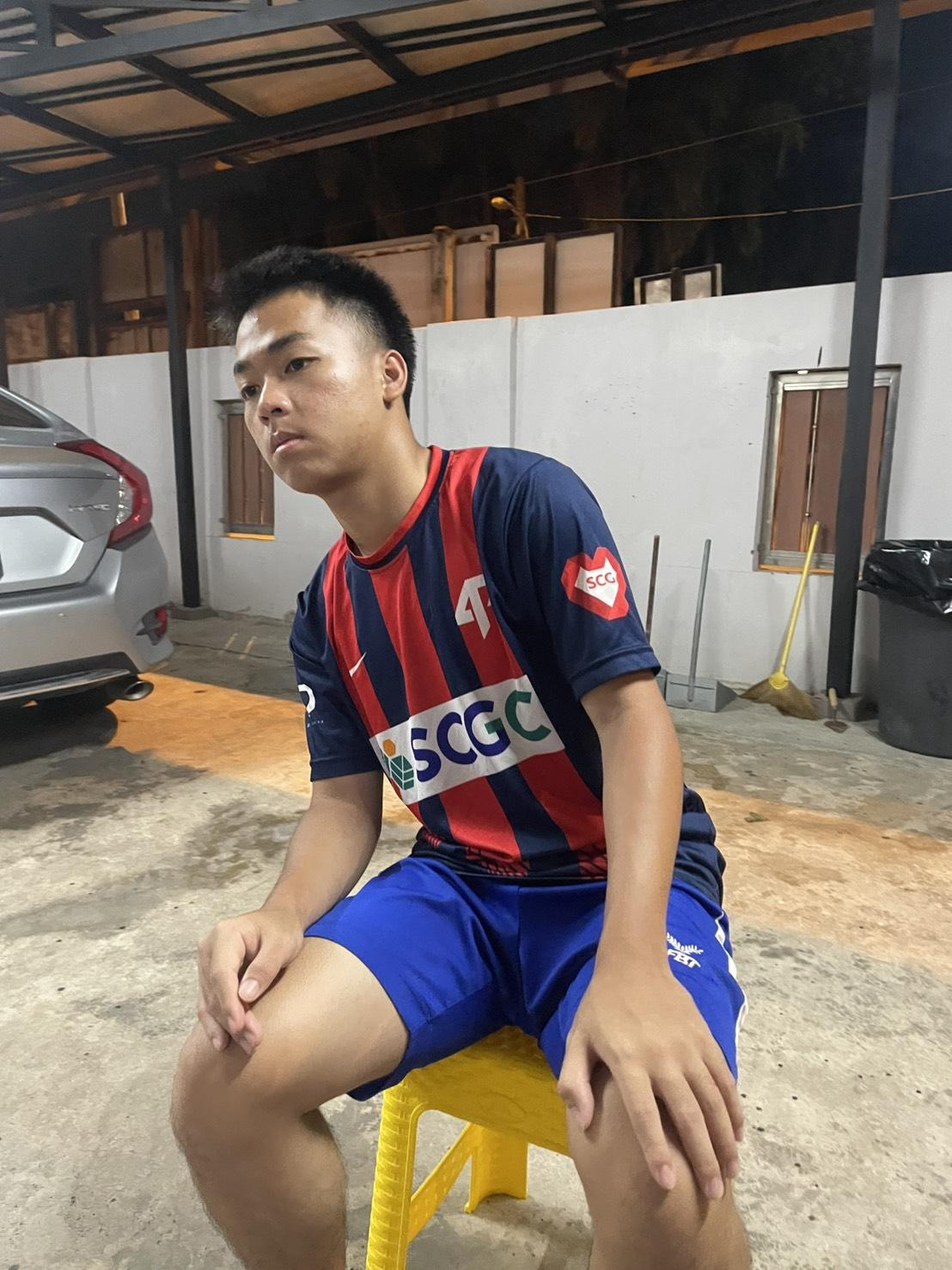BadPosture: (206, 247, 722, 999)
